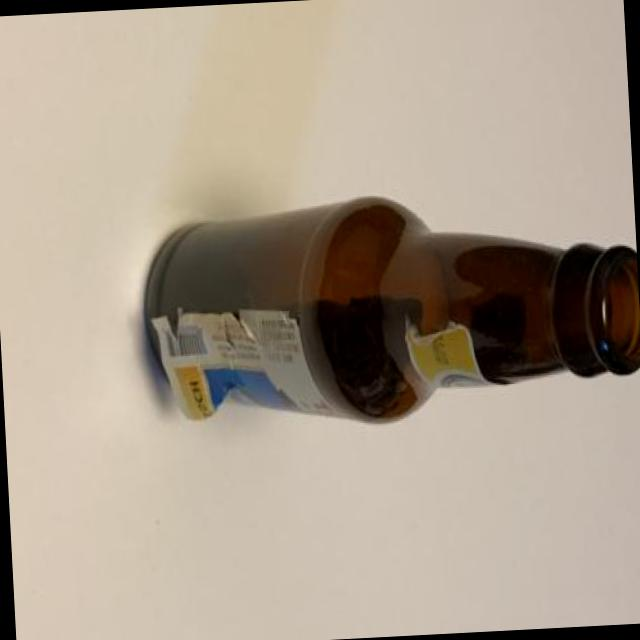chai_thuy_tinh: (145, 197, 640, 424)
giay: (149, 311, 333, 420)
